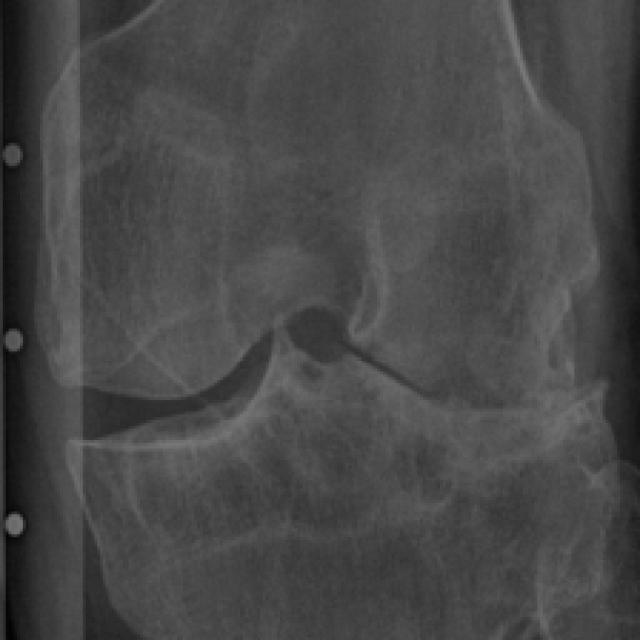femur: (36, 1, 598, 400)
tibia: (80, 349, 611, 637)
